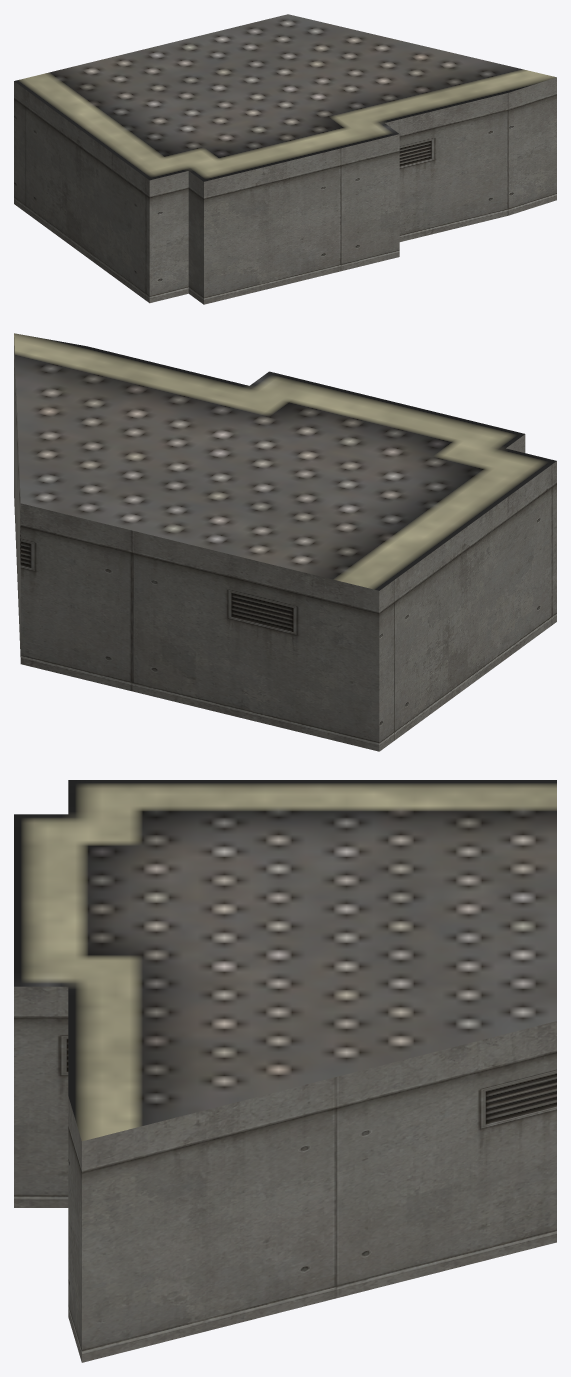
The model's file is building_medium_a_03.glb.
3 renders of one model, top to bottom at view 1: azimuth 30°, elevation 25°; view 2: azimuth 150°, elevation 25°; view 3: azimuth 270°, elevation 25°, orthographic. The views are drawn at different scales.
Visible parts, largest first — view 1: buildings/saxarba/building_medium/building_medium_a_03; view 2: buildings/saxarba/building_medium/building_medium_a_03; view 3: buildings/saxarba/building_medium/building_medium_a_03.
Part boxes in pixels (x1,y1,x2,y2): buildings/saxarba/building_medium/building_medium_a_03: (14,14,556,304); buildings/saxarba/building_medium/building_medium_a_03: (14,333,556,751); buildings/saxarba/building_medium/building_medium_a_03: (14,780,556,1362).
Bounding box in the file's own units: 63 × 18 × 40.
